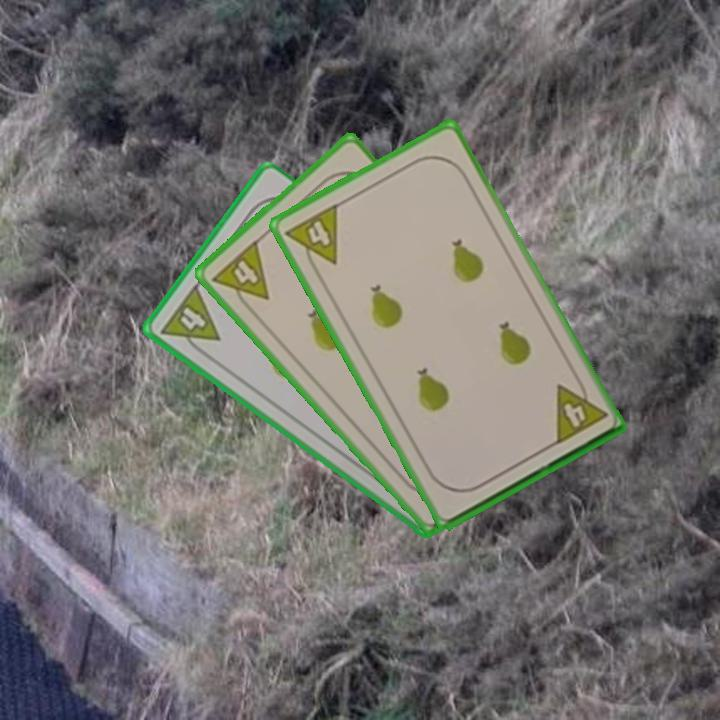4p: (157, 281, 223, 361), (208, 236, 272, 317), (282, 199, 341, 277), (551, 372, 610, 448)
